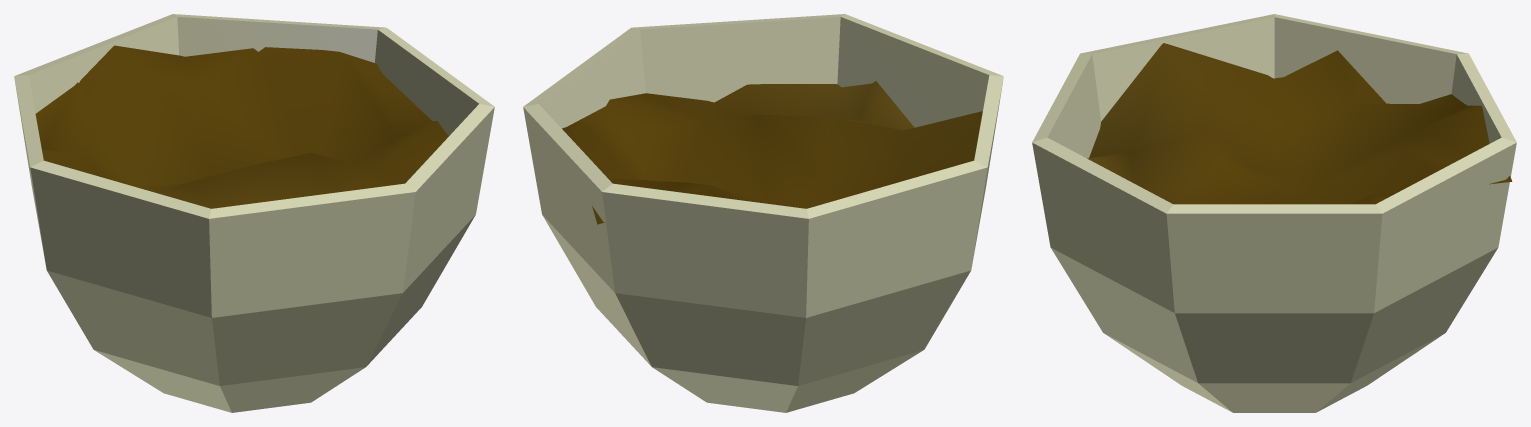
Rendered from Porridge.fbx.
The picture shows the model from 3 angles, left to right: view 1: azimuth 30°, elevation 25°; view 2: azimuth 150°, elevation 25°; view 3: azimuth 270°, elevation 25°; orthographic projection.
Visible parts, largest first — view 1: Porridge; view 2: Porridge; view 3: Porridge.
Part boxes in pixels (x1,y1,x2,y2): Porridge: (14, 14, 494, 412); Porridge: (523, 14, 1003, 412); Porridge: (1032, 14, 1516, 412).
Bounding box in the file's own units: 204 × 129 × 210.
